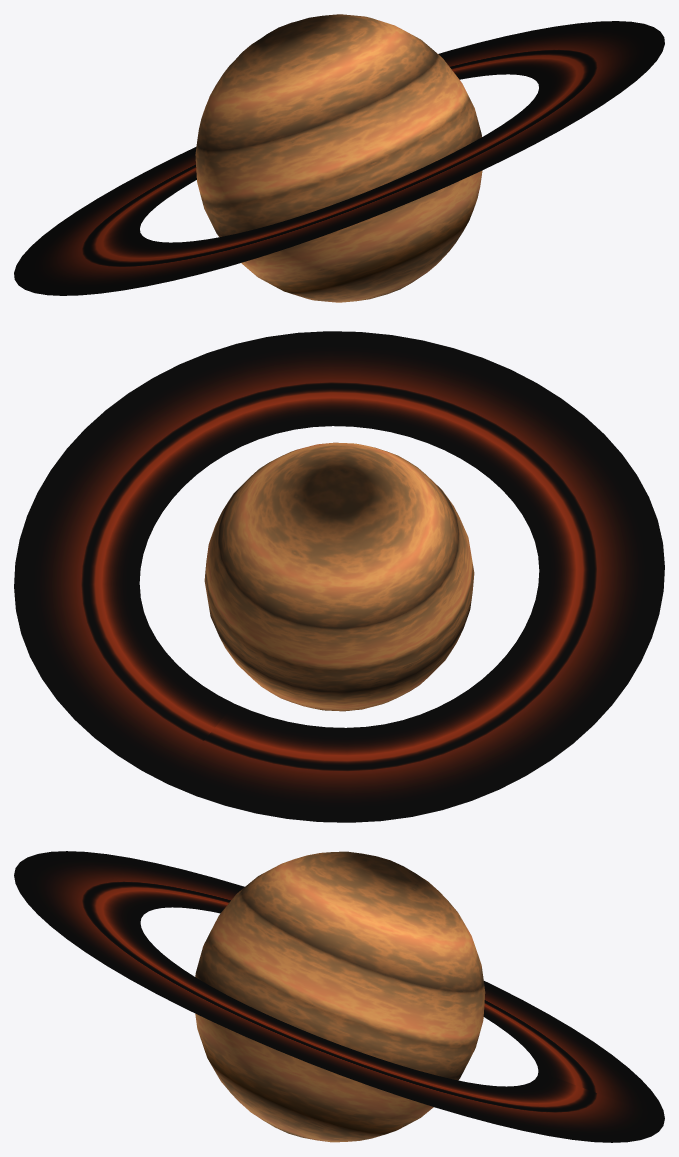
Rendered from planet.fbx.
The picture shows the model from 3 angles, top to bottom: view 1: azimuth 30°, elevation 25°; view 2: azimuth 150°, elevation 25°; view 3: azimuth 270°, elevation 25°; orthographic projection. The views are drawn at different scales.
Parts seen in each view (by area): view 1: Cube, Plane; view 2: Plane, Cube; view 3: Cube, Plane.
Part boxes in pixels (x1=…): Cube: x1=195, y1=14, x2=482, y2=302; Plane: x1=14, y1=21, x2=664, y2=295; Plane: x1=14, y1=331, x2=664, y2=822; Cube: x1=204, y1=442, x2=474, y2=711; Cube: x1=195, y1=851, x2=485, y2=1142; Plane: x1=14, y1=851, x2=664, y2=1142.
Size of the model in its own units: 1737 by 739 by 1654.
